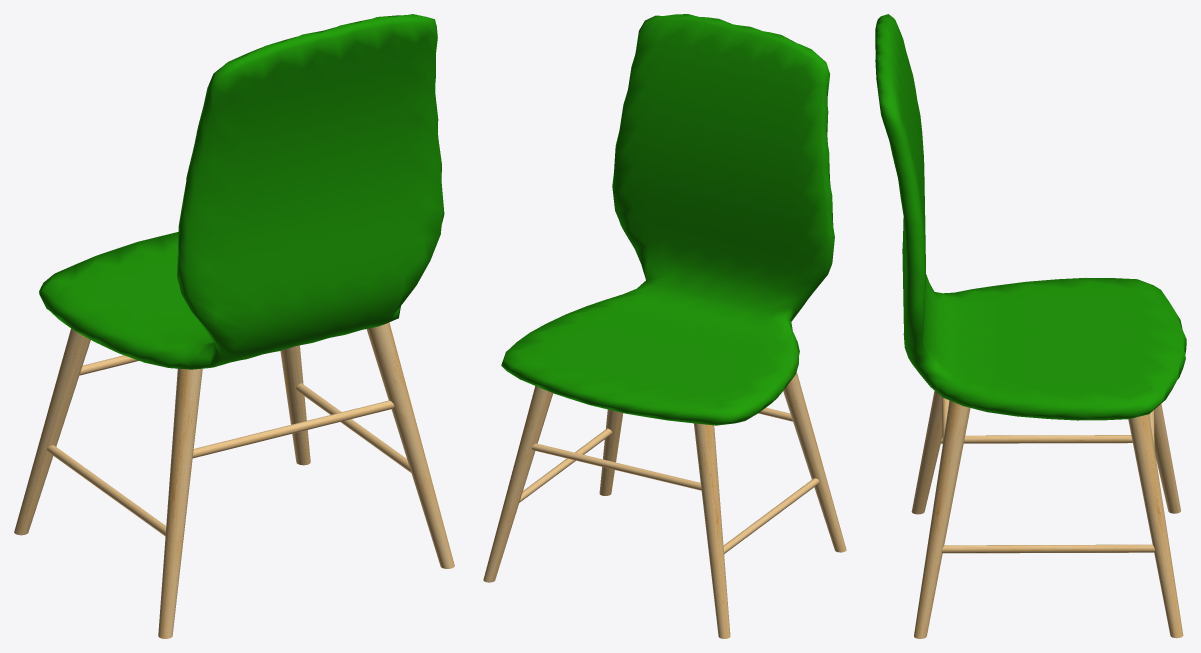
File: chair1_green.obj
3 views of the same model, side by side, from view 1: azimuth 30°, elevation 25°; view 2: azimuth 150°, elevation 25°; view 3: azimuth 270°, elevation 25° (orthographic). The views are drawn at different scales.
Visible parts, largest first — view 1: Box7268, Cone062, Cone061, Cone060, Cylinder388, Cone059, Cylinder389, Cylinder390; view 2: Box7268, Cone060, Cone059, Cone062, Cylinder387, Cone061, Cylinder389, Cylinder390; view 3: Box7268, Cone061, Cone059, Cylinder390, Cone062, Cylinder389, Cone060.
Part boxes in pixels (bbox=[...]): Box7268: bbox=[39, 14, 444, 369]; Cone062: bbox=[158, 368, 202, 638]; Cone061: bbox=[366, 322, 454, 568]; Cone060: bbox=[14, 328, 90, 535]; Cylinder388: bbox=[192, 400, 394, 458]; Cone059: bbox=[280, 345, 310, 465]; Cylinder389: bbox=[47, 445, 166, 536]; Cylinder390: bbox=[296, 383, 411, 472]; Box7268: bbox=[501, 14, 834, 425]; Cone060: bbox=[693, 423, 730, 638]; Cone059: bbox=[483, 386, 552, 582]; Cone062: bbox=[783, 372, 846, 552]; Cylinder387: bbox=[531, 443, 701, 490]; Cone061: bbox=[599, 409, 623, 495]; Cylinder389: bbox=[723, 478, 819, 553]; Cylinder390: bbox=[519, 428, 612, 502]; Box7268: bbox=[875, 14, 1186, 420]; Cone061: bbox=[914, 400, 970, 638]; Cone059: bbox=[1128, 414, 1183, 638]; Cylinder390: bbox=[941, 544, 1155, 553]; Cone062: bbox=[911, 390, 942, 514]; Cylinder389: bbox=[940, 435, 1132, 443]; Cone060: bbox=[1154, 404, 1180, 513].
Size of the model in its own units: 38.45 by 71.65 by 38.32.
2 materials, 1 textured.
